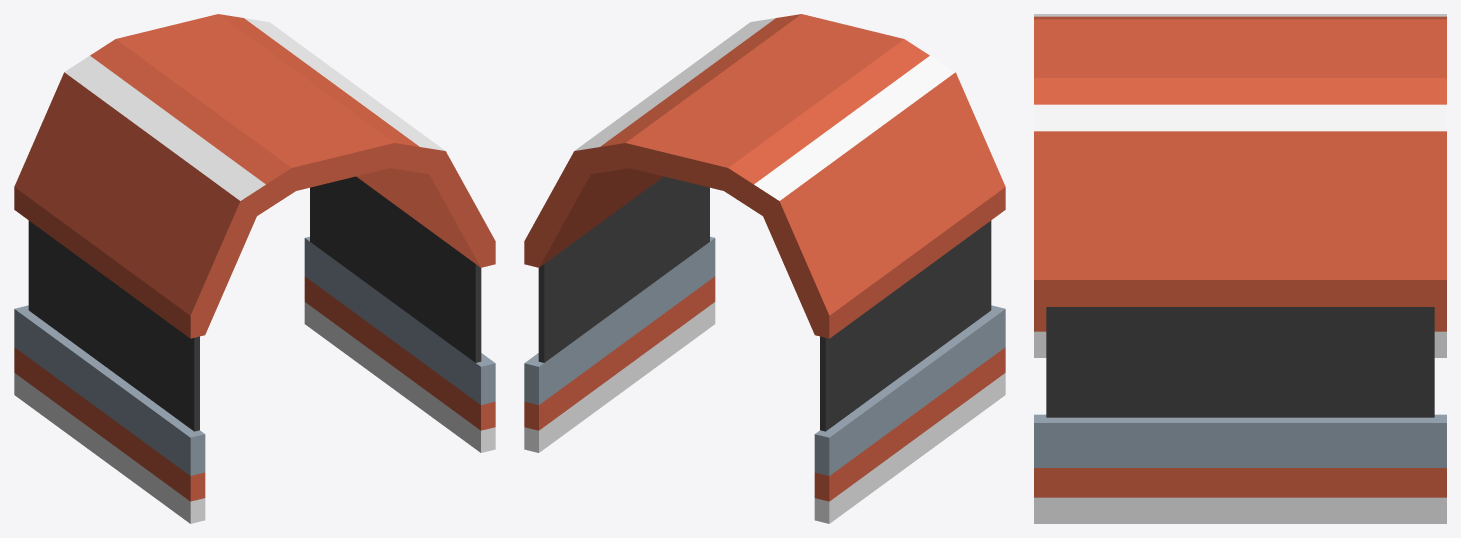
File: buildingCorridorOpen.glb
3 views of the same model, side by side, from view 1: azimuth 30°, elevation 25°; view 2: azimuth 150°, elevation 25°; view 3: azimuth 270°, elevation 25° (orthographic). The views are drawn at different scales.
Visible parts, largest first — view 1: buildingCorridorOpen; view 2: buildingCorridorOpen; view 3: buildingCorridorOpen.
Boxes of the visible parts, x1,y1,x2,y2 form: buildingCorridorOpen: (14, 14, 495, 523); buildingCorridorOpen: (524, 14, 1005, 523); buildingCorridorOpen: (1034, 14, 1446, 523).
Size of the model in its own units: 10 by 10.37 by 10.
